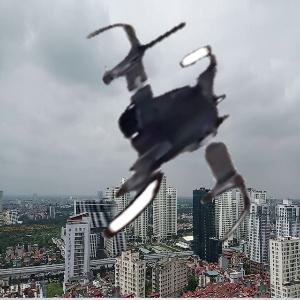drone: (16, 11, 280, 275)
